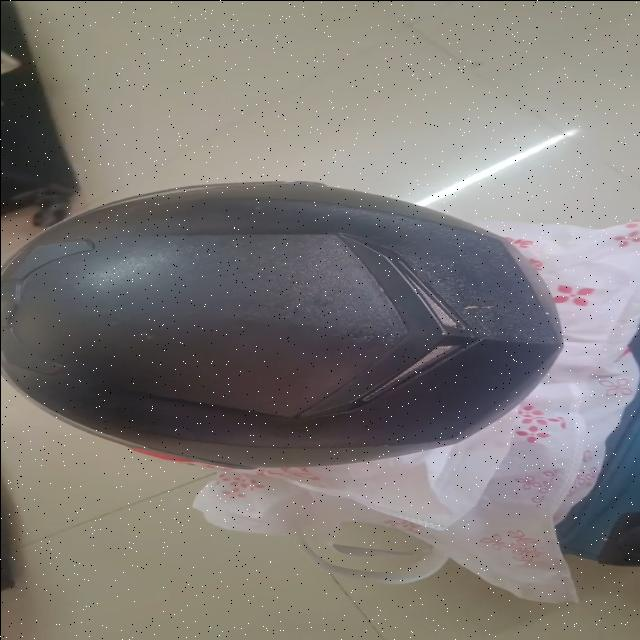Helmet: (0, 180, 566, 518)
